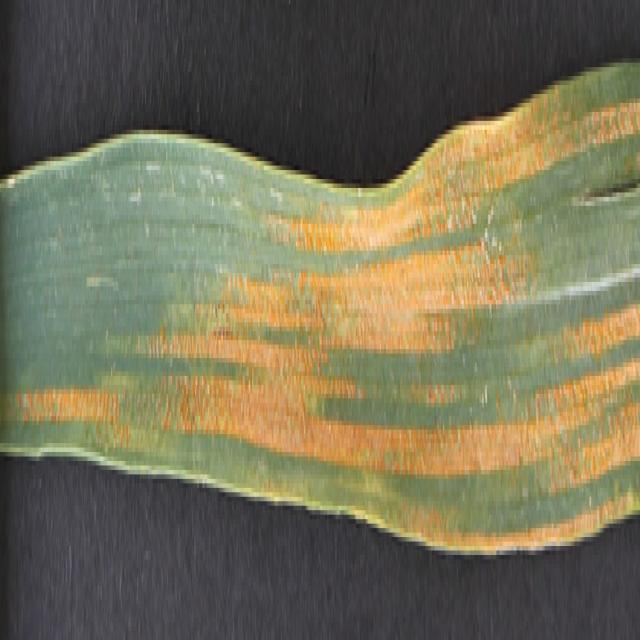leaf rust: (8, 85, 639, 542)
